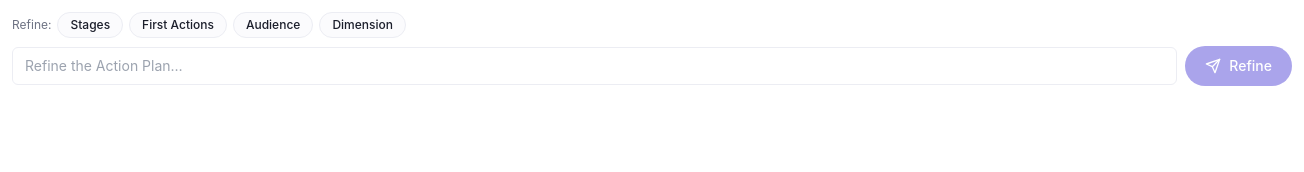
Scenario: ChatRefinementInput — 4-axis chips (G3) › clicking First Actions chip pre-fills with 'Change Day 0 of the first pipeline to '
This screenshot has width=1304, height=172.
Click the button "First Actions".
click(178, 25)  # box 129,12 -> 227,38
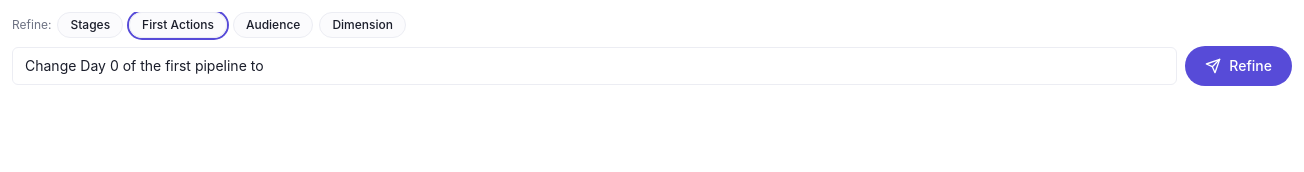
Expected: the field named "Refine the Action Plan" holds "Change Day 0 of the first pipeline to ", 12,47 -> 1177,85
